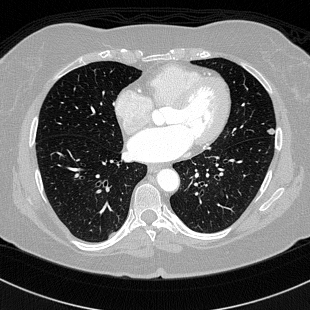nodule: (267, 127, 275, 135)
